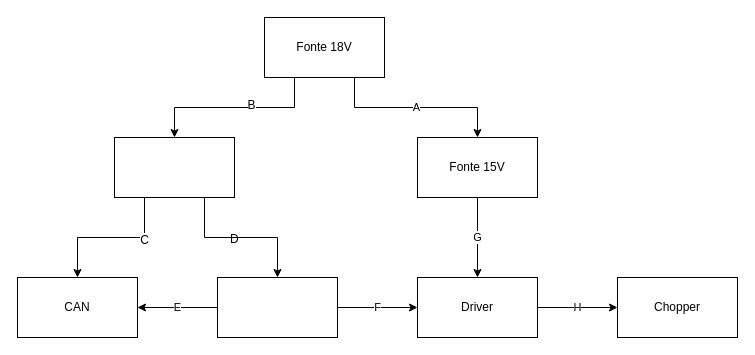
Some shapes in this 755 by 355 pixel diagram are drawn without their labels. Here are the shapes that lost their labels. From the top down, the centre of each, then its label:
At (x=174, y=167): "Fonte 5V".
At (x=277, y=307): "µC".
